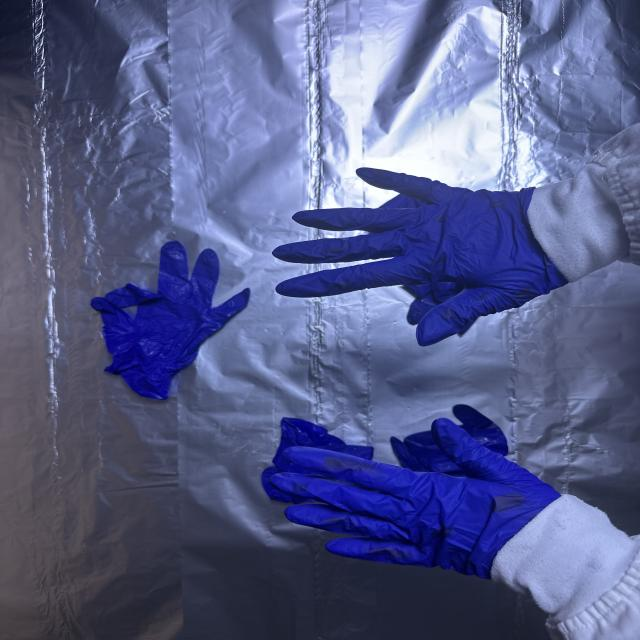gloves_contaminated: (274, 168, 568, 345), (270, 418, 560, 578)
